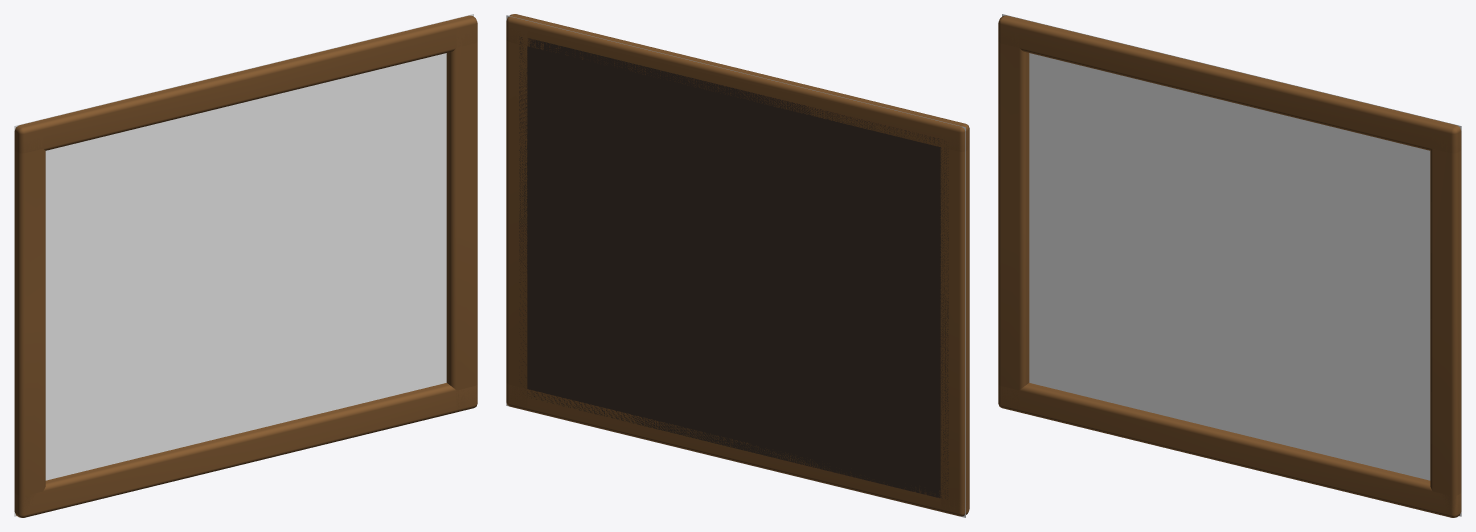
Rendered from furn_art_seaside.glb.
3 renders of one model, left to right at view 1: azimuth 30°, elevation 25°; view 2: azimuth 150°, elevation 25°; view 3: azimuth 330°, elevation 25°, orthographic.
Visible parts, largest first — view 1: furn_art_seaside_pic, furn_art_seaside_main; view 2: furn_art_seaside_main, furn_art_seaside_pic; view 3: furn_art_seaside_pic, furn_art_seaside_main.
Boxes of the visible parts, <box> form: furn_art_seaside_pic: <box>14,14,473,516</box>; furn_art_seaside_main: <box>14,15,477,517</box>; furn_art_seaside_main: <box>506,14,969,516</box>; furn_art_seaside_pic: <box>506,15,965,517</box>; furn_art_seaside_pic: <box>1002,14,1461,516</box>; furn_art_seaside_main: <box>998,15,1461,517</box>.
Size of the model in its own units: 2 by 1.62 by 0.06.
